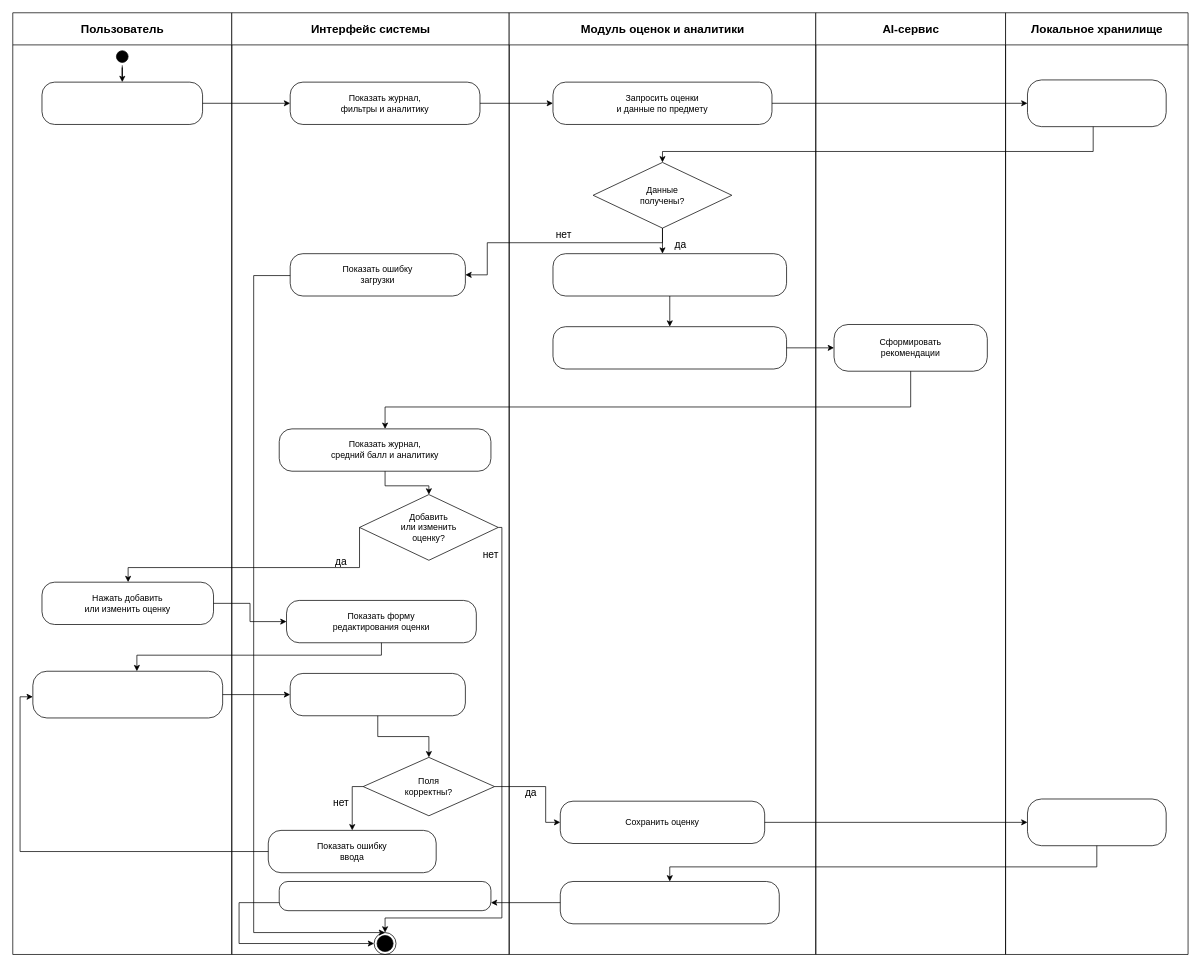
Some shapes in this 1201 by 967 pixel diagram are drawn without their labels. Here are the shapes that lost their labels. From the top down, the box of each, then its label:
(41, 81, 203, 124): Открыть модуль оценок и аналитики
(1027, 79, 1166, 127): Получить оценки и метаданные
(552, 253, 787, 296): Рассчитать средний балл, динамику и рейтинг
(552, 326, 787, 369): Запросить рекомендации по успеваемости
(32, 671, 223, 718): Ввести студента, предмет, оценку и вес
(289, 673, 465, 716): Проверить корректность полей
(1027, 798, 1166, 846): Сохранить оценку в журнале
(278, 881, 491, 911): Показать обновлённый журнал и аналитику
(560, 881, 779, 924): Обновить аналитику и рекомендации
